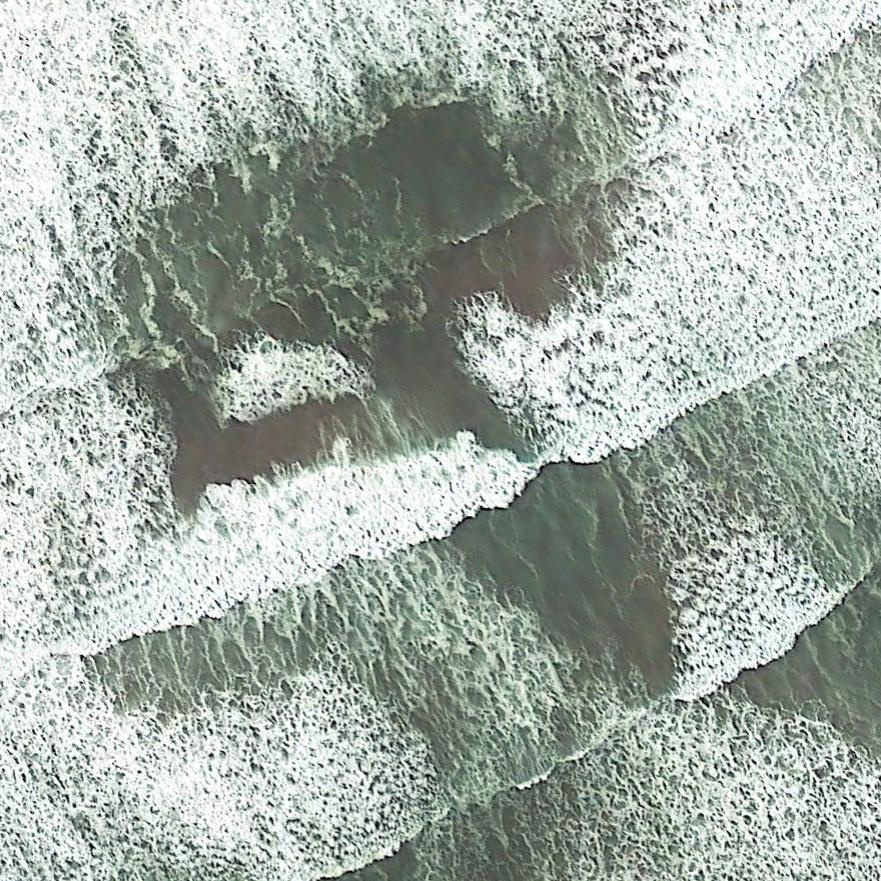rip_current: (278, 234, 692, 679)
